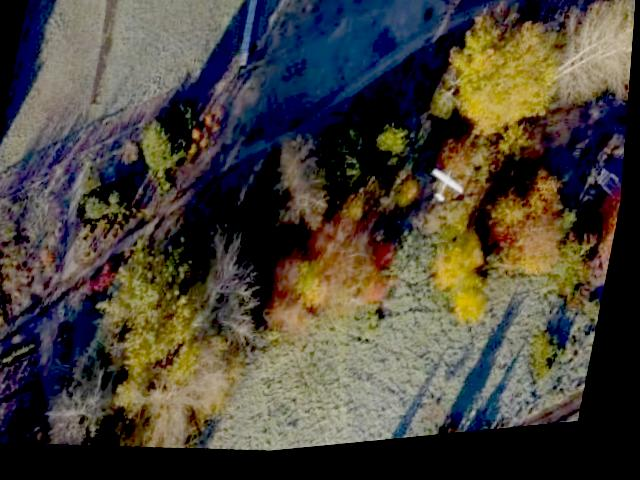uav: (420, 162, 479, 220)
